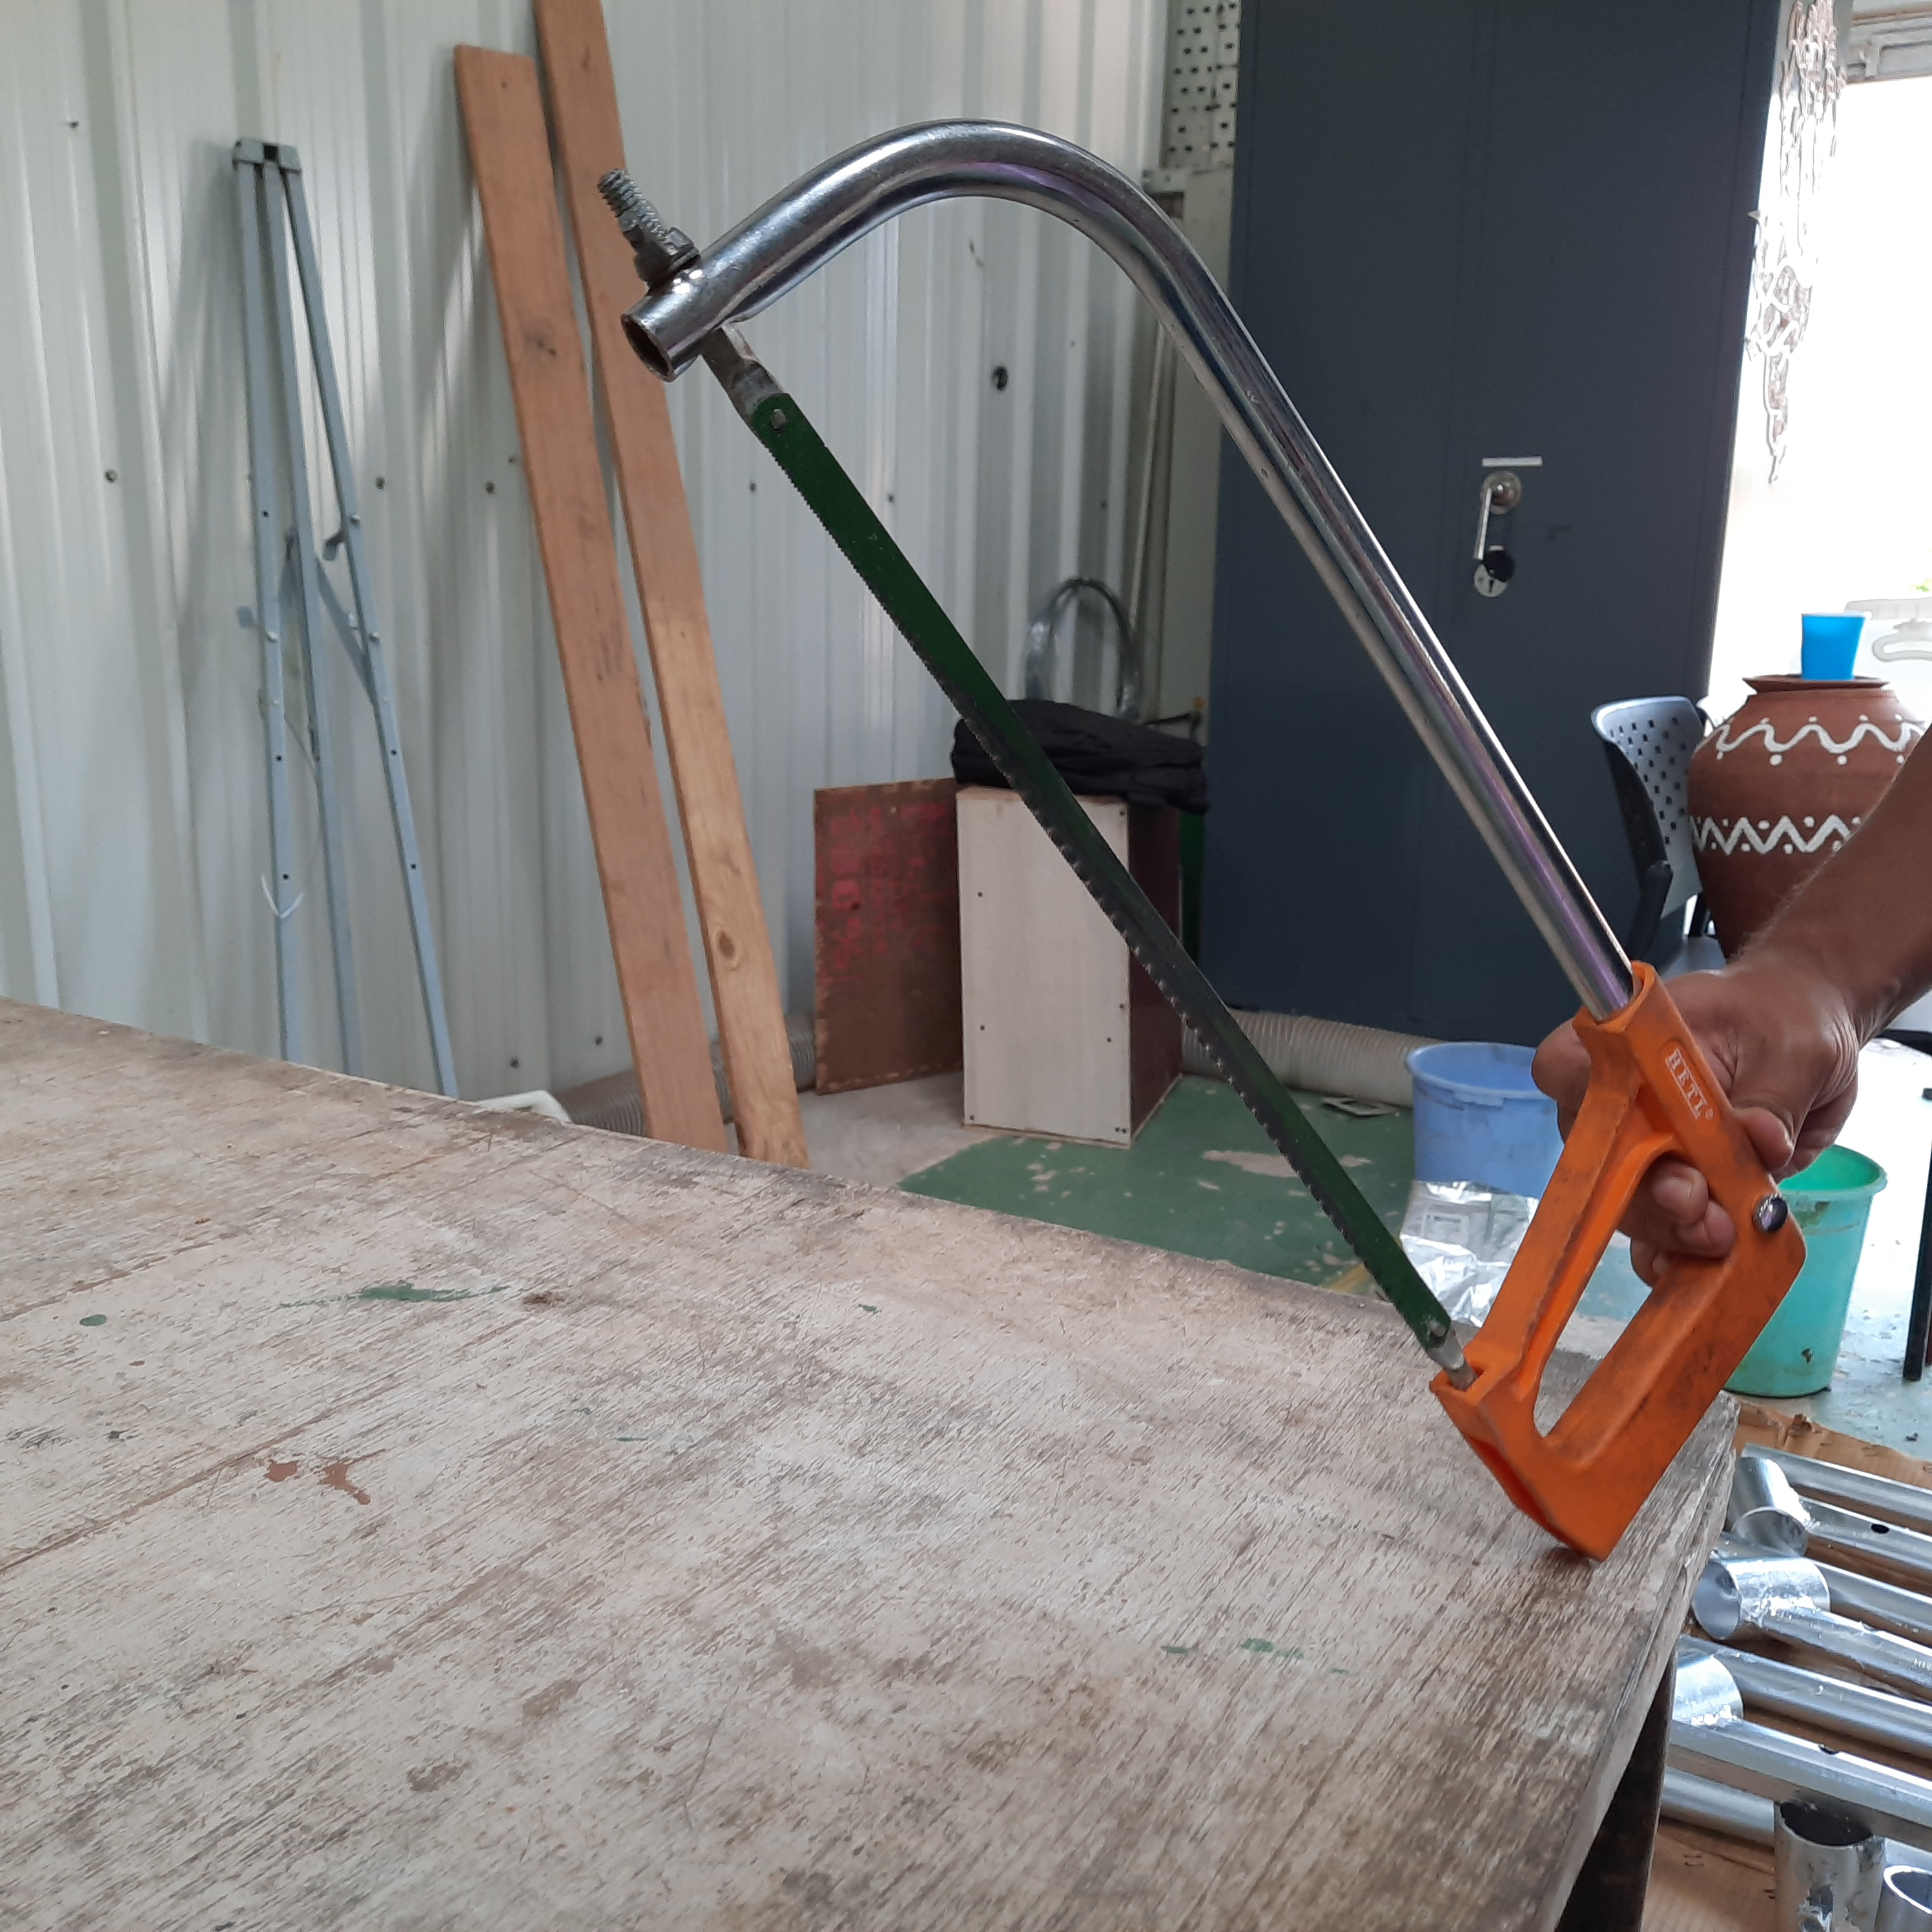Hexaframe: (580, 92, 1870, 1582)
